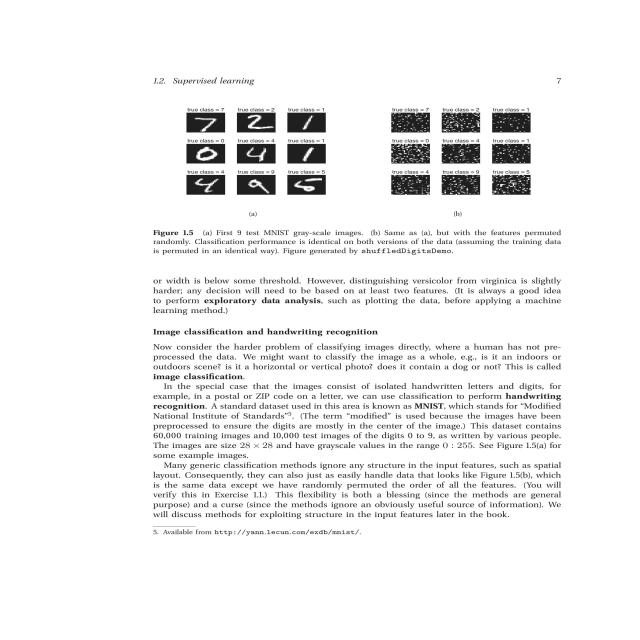diagram: (125, 96, 640, 263)
